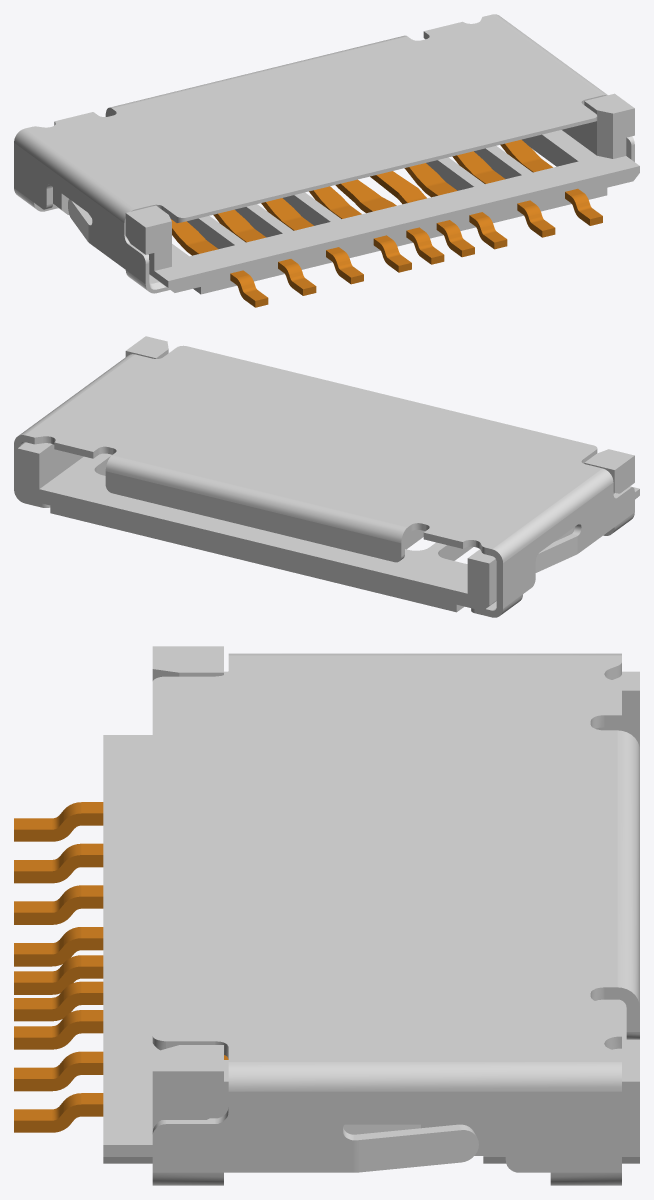
Rendered from sfe-microsd_friction_fit-empty.glb.
The picture shows the model from 3 angles, top to bottom: view 1: azimuth 30°, elevation 25°; view 2: azimuth 150°, elevation 25°; view 3: azimuth 270°, elevation 25°; orthographic projection. The views are drawn at different scales.
Visible parts, largest first — view 1: 0.8333333333333334_0.8333333333333334_0.8333333333333334_0.8, 0.6666666666666666_0.25_0_0; view 2: 0.8333333333333334_0.8333333333333334_0.8333333333333334_0.8; view 3: 0.8333333333333334_0.8333333333333334_0.8333333333333334_0.8, 0.6666666666666666_0.25_0_0.
Boxes of the visible parts, bbox=[...] form: 0.8333333333333334_0.8333333333333334_0.8333333333333334_0.8: bbox=[14, 14, 639, 294]; 0.6666666666666666_0.25_0_0: bbox=[171, 139, 602, 307]; 0.8333333333333334_0.8333333333333334_0.8333333333333334_0.8: bbox=[14, 336, 639, 617]; 0.8333333333333334_0.8333333333333334_0.8333333333333334_0.8: bbox=[103, 646, 639, 1185]; 0.6666666666666666_0.25_0_0: bbox=[14, 802, 228, 1132].
Size of the model in its own units: 1.12 by 0.1514 by 0.7.
